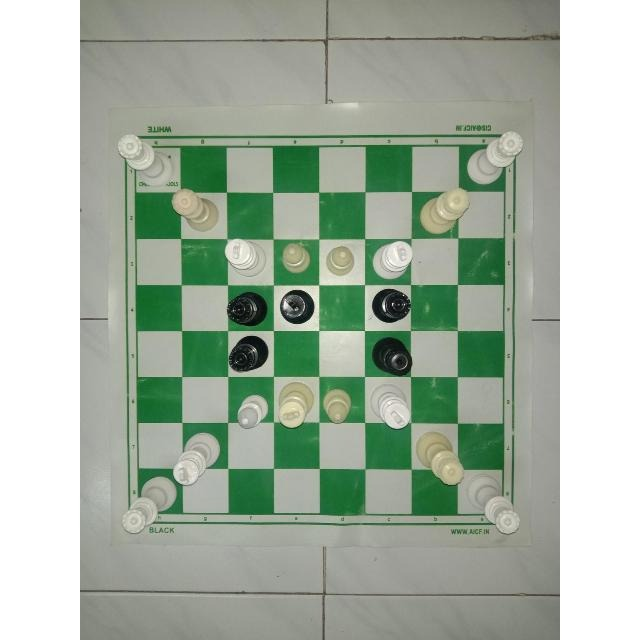black-king: (279, 287, 317, 327)
black-queen: (226, 289, 270, 328), (230, 334, 270, 376), (371, 336, 413, 376), (372, 289, 414, 323)
white-bishop: (233, 390, 271, 431), (319, 384, 355, 425), (277, 239, 313, 277), (323, 242, 359, 279)
white-king: (173, 428, 221, 486), (368, 380, 413, 432), (276, 380, 318, 429), (223, 235, 266, 277), (372, 239, 412, 282)
white-queen: (120, 476, 178, 536), (466, 129, 525, 187), (466, 475, 520, 535), (414, 428, 466, 487), (116, 133, 172, 185), (419, 184, 471, 234), (172, 189, 220, 233)
